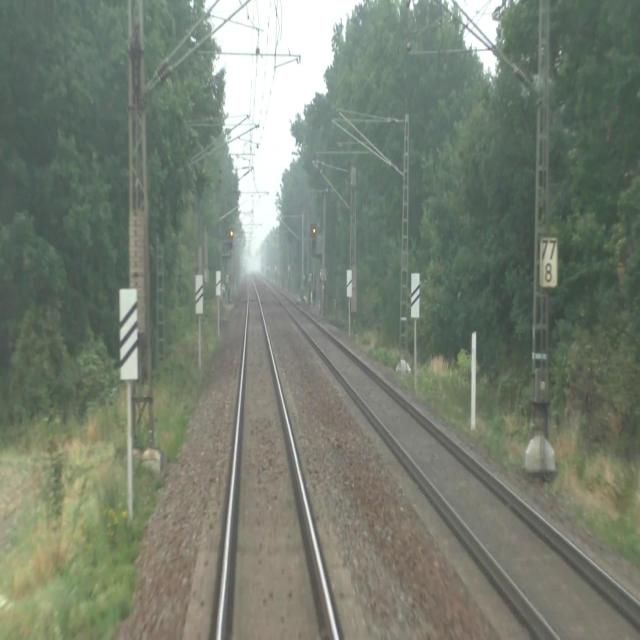rail-track: (265, 279, 640, 639), (221, 276, 335, 639)
